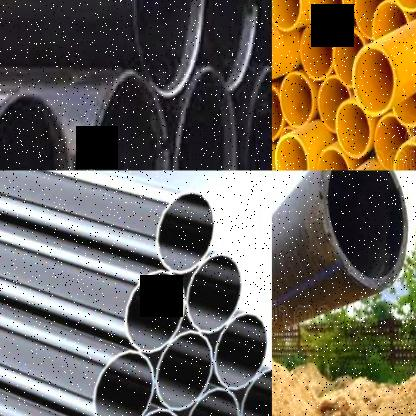pipe: (318, 171, 408, 291), (81, 69, 171, 170), (126, 0, 208, 98), (170, 65, 240, 170), (0, 88, 80, 171), (196, 0, 263, 93), (150, 190, 216, 274), (122, 268, 186, 354), (154, 328, 214, 414), (183, 255, 244, 334), (86, 349, 155, 416), (215, 310, 270, 390), (239, 63, 272, 170), (352, 44, 396, 116), (373, 112, 411, 171), (336, 101, 370, 159), (300, 23, 334, 80), (318, 76, 351, 134), (279, 72, 314, 126), (182, 385, 242, 416), (333, 29, 364, 88), (239, 365, 272, 416), (371, 0, 408, 41), (353, 0, 388, 41), (307, 0, 343, 37), (275, 133, 309, 170), (271, 0, 301, 31), (317, 147, 351, 171), (272, 83, 284, 141), (392, 142, 416, 170)
